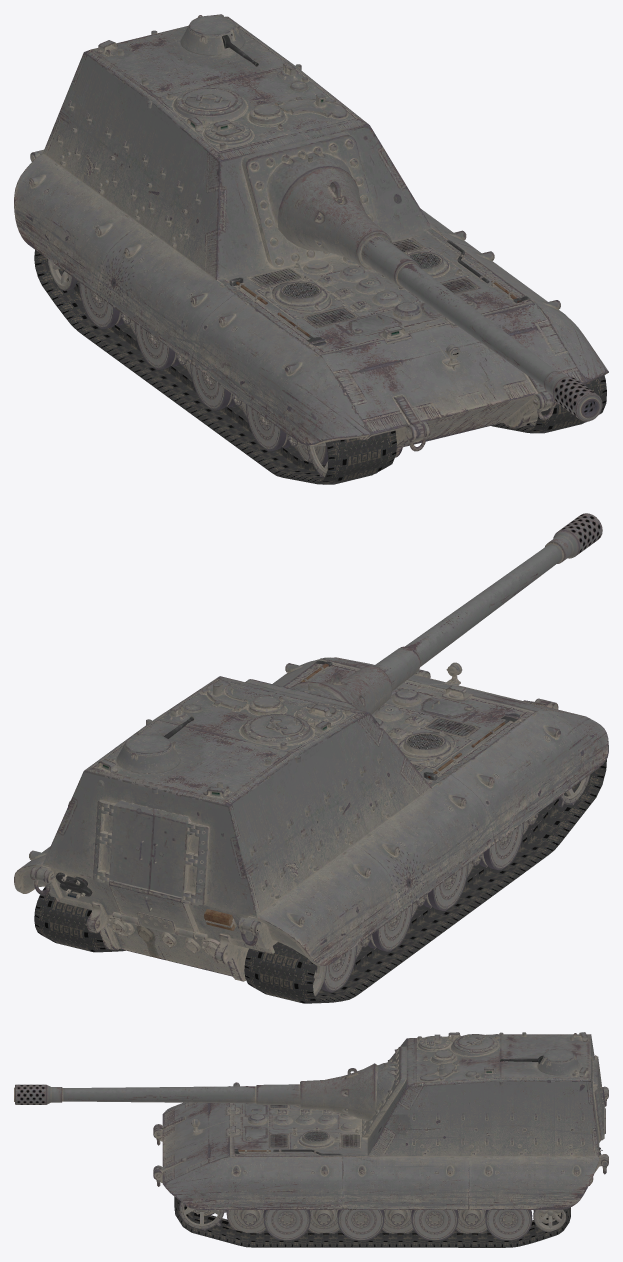
3 renders of one model, top to bottom at view 1: azimuth 30°, elevation 25°; view 2: azimuth 150°, elevation 25°; view 3: azimuth 270°, elevation 25°, orthographic. The views are drawn at different scales.
Parts seen in each view (by area): view 1: Hull, Gun, Track.001, Track, RWHEEL.005, RWHEEL.001, RWHEEL.002, RWHEEL.007; view 2: Hull, Track.001, Gun, Track, RWHEEL.005, RWHEEL.001, RWHEEL.002, RWHEEL.007; view 3: Hull, Gun, Track, LWHEEL.002, LWHEEL.006, LWHEEL.003, LWHEEL.008, LWHEEL.001, LWHEEL.007, LWHEEL.004, LWHEEL.005, LWHEEL (+1 smaller).
Boxes of the visible parts, <box> form: Hull: <box>14,14,608,457</box>; Gun: <box>277,166,602,421</box>; Track.001: <box>34,250,396,484</box>; Track: <box>491,375,606,433</box>; RWHEEL.005: <box>134,323,179,369</box>; RWHEEL.001: <box>190,363,234,410</box>; RWHEEL.002: <box>246,404,290,451</box>; RWHEEL.007: <box>79,282,123,329</box>; Hull: <box>14,657,608,981</box>; Track.001: <box>244,759,606,1003</box>; Gun: <box>291,513,602,714</box>; Track: <box>34,886,125,952</box>; RWHEEL.005: <box>368,904,412,951</box>; RWHEEL.001: <box>423,864,468,910</box>; RWHEEL.002: <box>479,823,523,870</box>; RWHEEL.007: <box>313,945,357,992</box>; Hull: <box>153,1032,608,1209</box>; Gun: <box>14,1063,378,1121</box>; Track: <box>174,1197,570,1247</box>; LWHEEL.002: <box>263,1210,310,1240</box>; LWHEEL.006: <box>411,1210,458,1240</box>; LWHEEL.003: <box>337,1210,384,1240</box>; LWHEEL.008: <box>485,1210,532,1240</box>; LWHEEL.001: <box>226,1210,266,1233</box>; LWHEEL.007: <box>455,1210,487,1233</box>; LWHEEL.004: <box>308,1210,339,1233</box>; LWHEEL.005: <box>382,1210,413,1233</box>; LWHEEL: <box>179,1202,227,1230</box>.
Size of the model in its own units: 4.48 by 3.4 by 11.42.
Materials: 4 (4 with a texture image).
